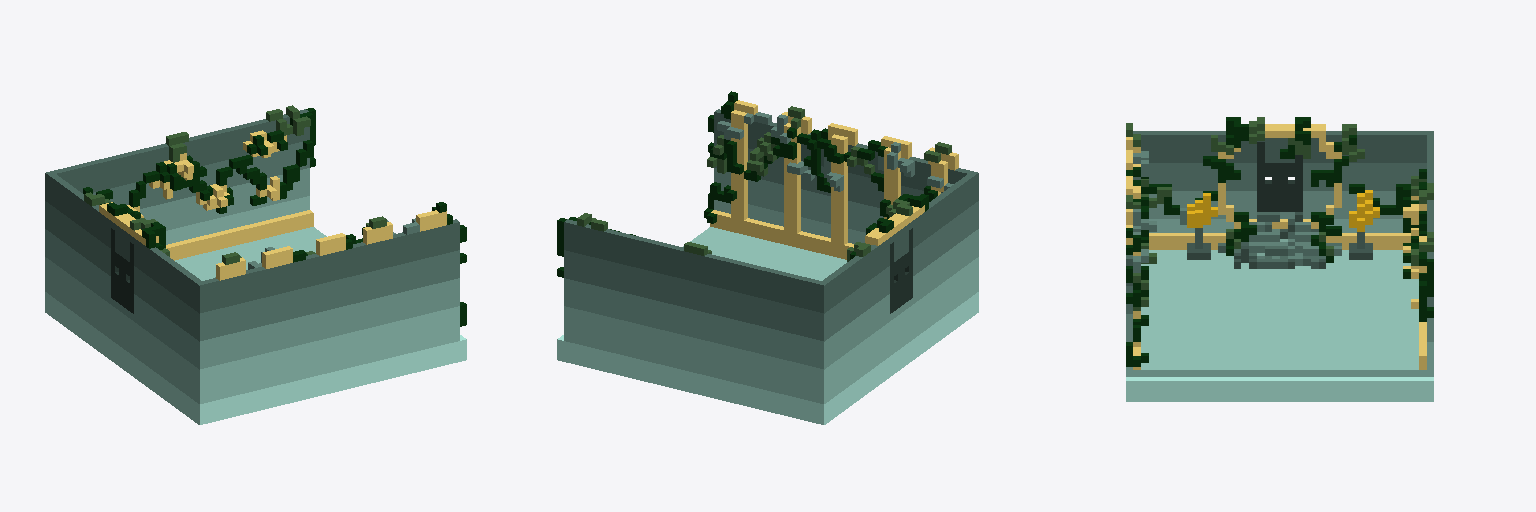
The picture shows the model from 3 angles: view 1: azimuth 30°, elevation 25°; view 2: azimuth 150°, elevation 25°; view 3: azimuth 270°, elevation 25°; orthographic projection.
Parts seen in each view (by area): view 1: Passage; view 2: Passage; view 3: Passage.
Boxes of the visible parts, x1=… form: Passage: x1=45, y1=105, x2=466, y2=424; Passage: x1=557, y1=91, x2=978, y2=424; Passage: x1=1126, y1=117, x2=1433, y2=401.
Bounding box in the file's own units: 40 × 23 × 40.
Materials: 1 (1 with a texture image).